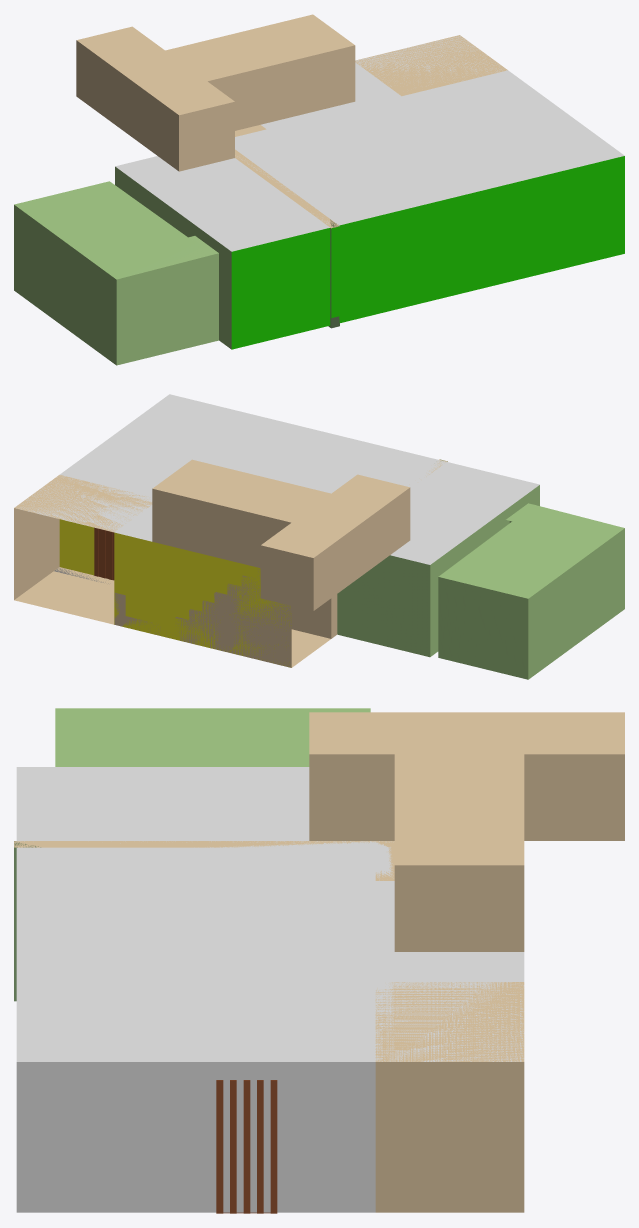
The model's file is CASA.fbx.
3 views of the same model, one above another, from view 1: azimuth 30°, elevation 25°; view 2: azimuth 150°, elevation 25°; view 3: azimuth 270°, elevation 25° (orthographic). The views are drawn at different scales.
Parts seen in each view (by area): view 1: Cube.014, Cube.017, Cube, Cube.005; view 2: Cube, Cube.017, Cube.014, Cube.015, Cube.005, Cube.002; view 3: Cube.017, Cube, Cube.016, Cube.005, Cube.003.
Boxes of the visible parts, bbox=[...] form: Cube.014: bbox=[14, 156, 624, 365]; Cube.017: bbox=[115, 35, 624, 251]; Cube: bbox=[76, 14, 507, 228]; Cube.005: bbox=[14, 181, 218, 279]; Cube: bbox=[14, 459, 447, 667]; Cube.017: bbox=[16, 394, 539, 564]; Cube.014: bbox=[337, 485, 624, 679]; Cube.015: bbox=[59, 519, 291, 667]; Cube.005: bbox=[438, 503, 624, 598]; Cube.002: bbox=[94, 527, 114, 580]; Cube.017: bbox=[16, 767, 524, 1061]; Cube: bbox=[14, 712, 624, 1212]; Cube.016: bbox=[16, 1062, 375, 1212]; Cube.005: bbox=[55, 708, 370, 766]; Cube.003: bbox=[216, 1080, 277, 1213].
Size of the model in its own units: 943 by 284 by 654.
